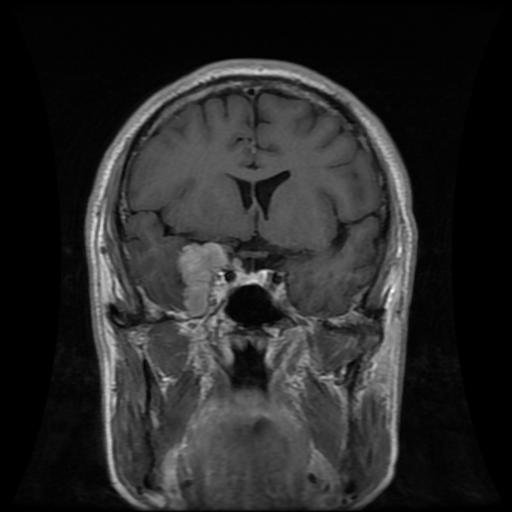Menigiomia_tumour: (177, 242, 228, 313)
